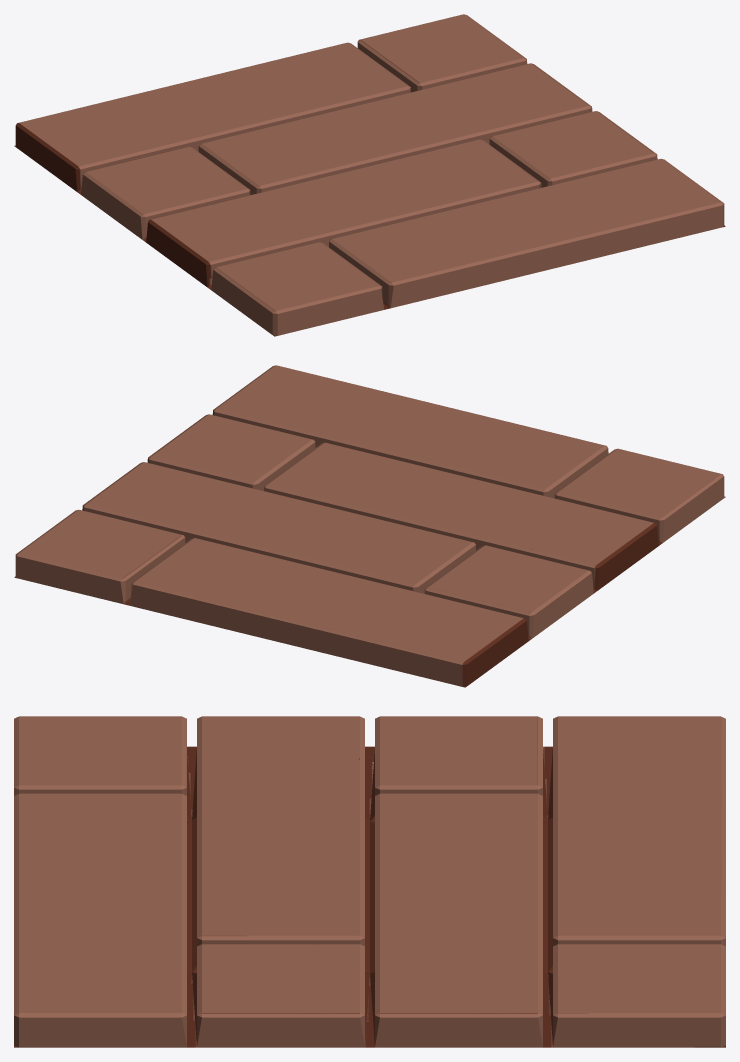
Rendered from fllor.fbx.
3 views of the same model, one above another, from view 1: azimuth 30°, elevation 25°; view 2: azimuth 150°, elevation 25°; view 3: azimuth 270°, elevation 25° (orthographic). The views are drawn at different scales.
Parts seen in each view (by area): view 1: floor; view 2: floor; view 3: floor.
Part boxes in pixels (x1=…): floor: x1=14, y1=14, x2=725, y2=336; floor: x1=14, y1=365, x2=725, y2=687; floor: x1=14, y1=716, x2=725, y2=1047.
Size of the model in its own units: 200 by 10 by 200.
1 material, 1 textured.
